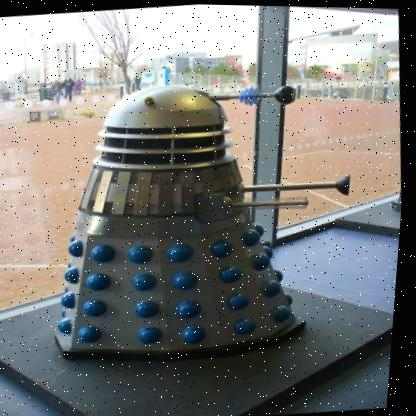dalek: (1, 38, 367, 394)
